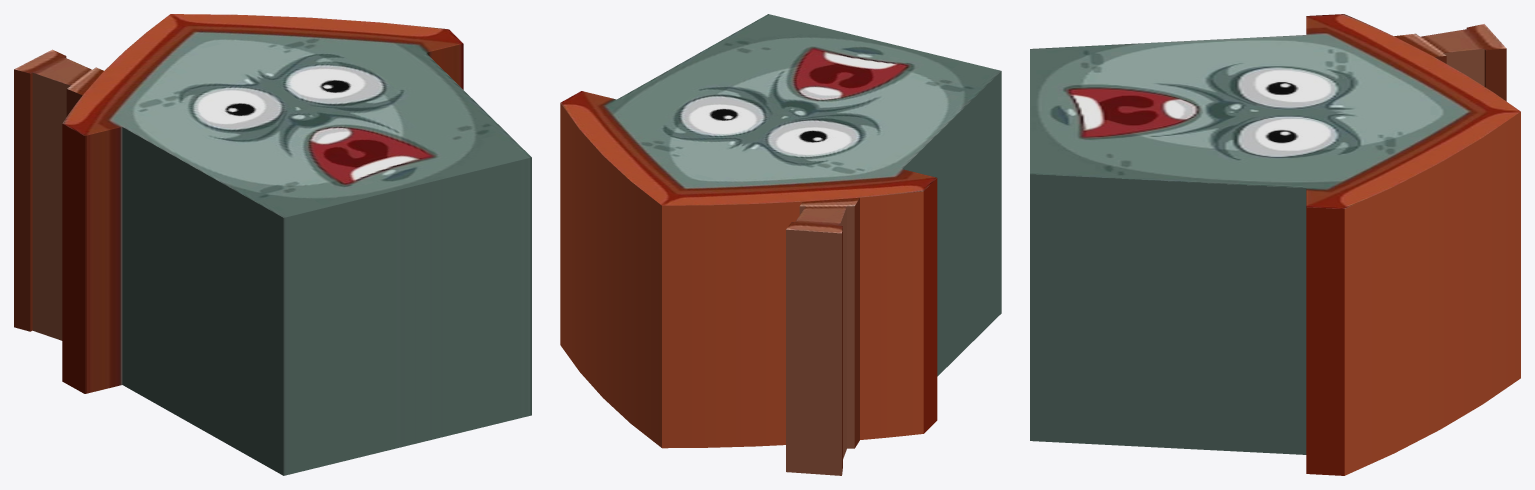
The model's file is evilhouse.fbx.
3 renders of one model, left to right at view 1: azimuth 30°, elevation 25°; view 2: azimuth 150°, elevation 25°; view 3: azimuth 270°, elevation 25°, orthographic. The views are drawn at different scales.
Parts seen in each view (by area): view 1: EvilHouseUncoloured; view 2: EvilHouseUncoloured; view 3: EvilHouseUncoloured.
Part boxes in pixels (x1,y1,x2,y2): EvilHouseUncoloured: [14, 14, 531, 475]; EvilHouseUncoloured: [560, 14, 1001, 475]; EvilHouseUncoloured: [1030, 14, 1520, 475].
Bounding box in the file's own units: 345 × 220 × 367.
